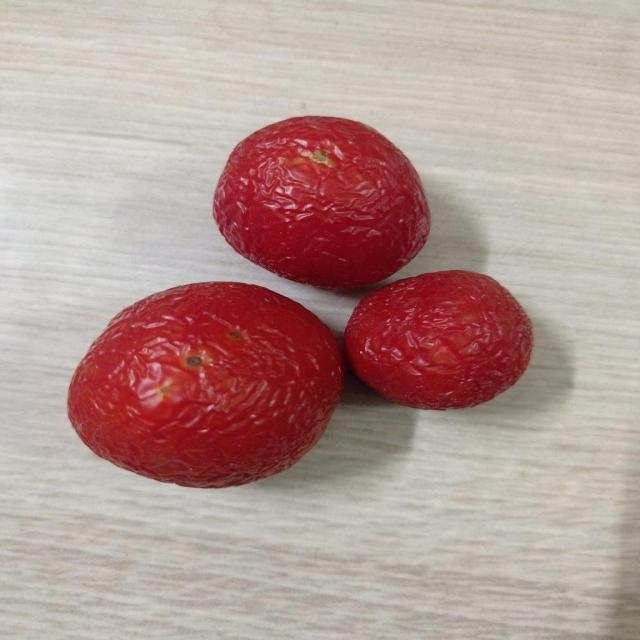overripe: (61, 277, 350, 490), (208, 110, 434, 292), (339, 268, 536, 412)
